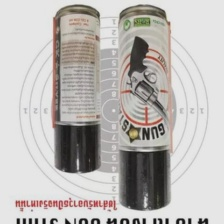aerosol_cans: (115, 2, 175, 212), (50, 2, 105, 174)
